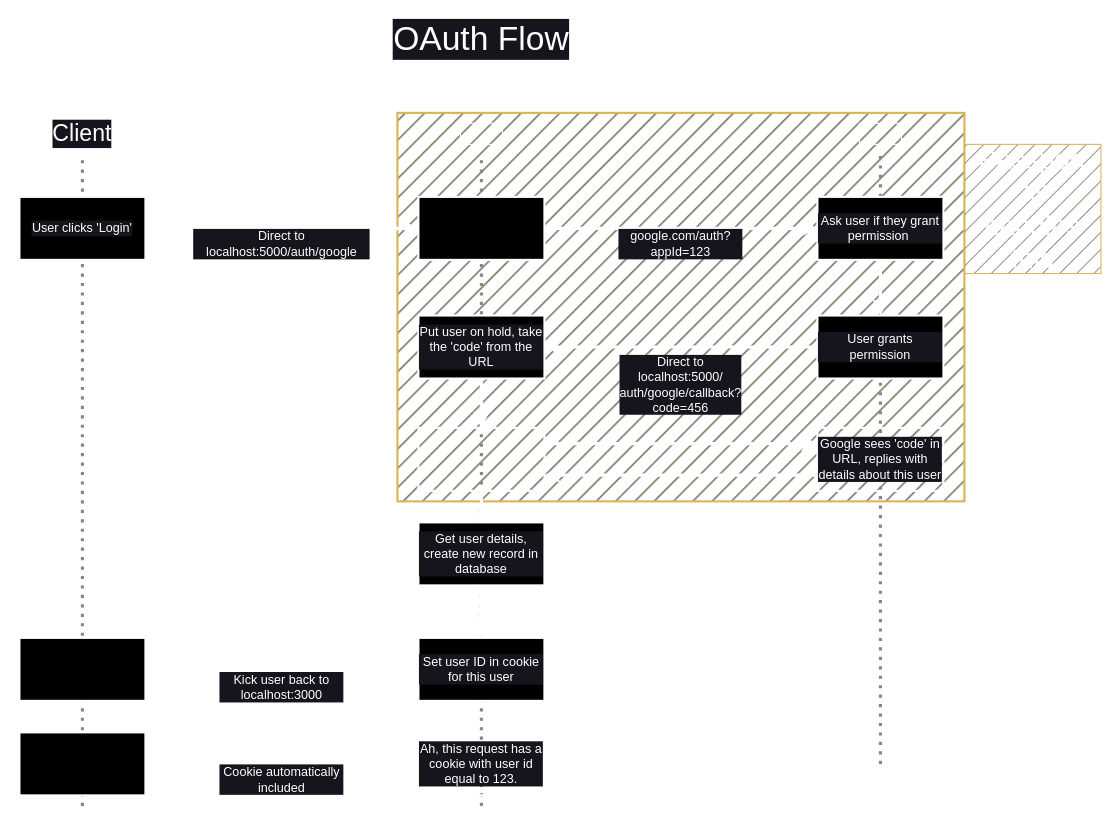
This 1119x826 diagram has some shape labels left out. Each missing label, with the centre of its shape:
Forward users's request to Google: point 481,227
Google: point 879,133
I need some resources from the API: point 82,763
Logged in!: point 82,668
Send request to google with 'code' included: point 481,458
Server: point 480,133
